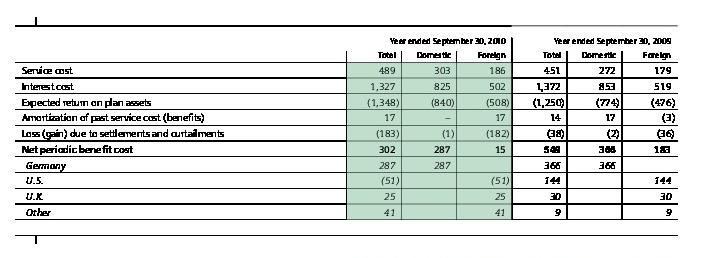table: (0, 0, 702, 258)
